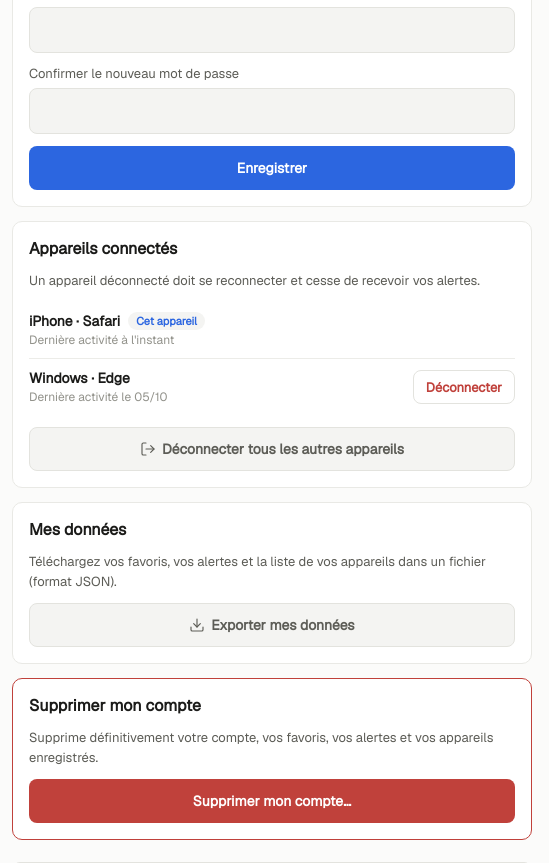
Paramètres — Sécurité › déconnecter tous les autres appareils : cet appareil garde un jeton neuf
The width and height of the screenshot is (549, 863).
(page scrolled)
Click the button "Déconnecter tous les autres appareils" at [272, 449], box [29, 427, 515, 471]
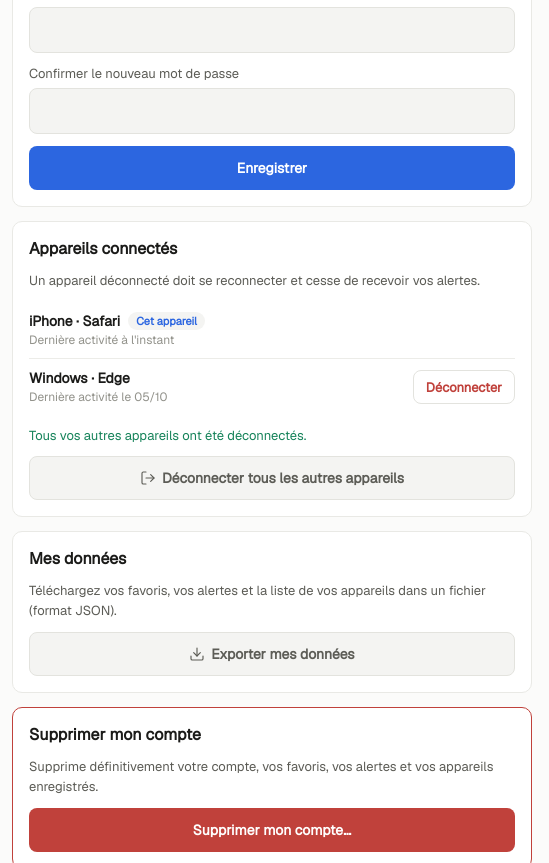
Result: the text "Tous vos autres appareils ont été déconnectés." is shown at [29, 427, 306, 444]
